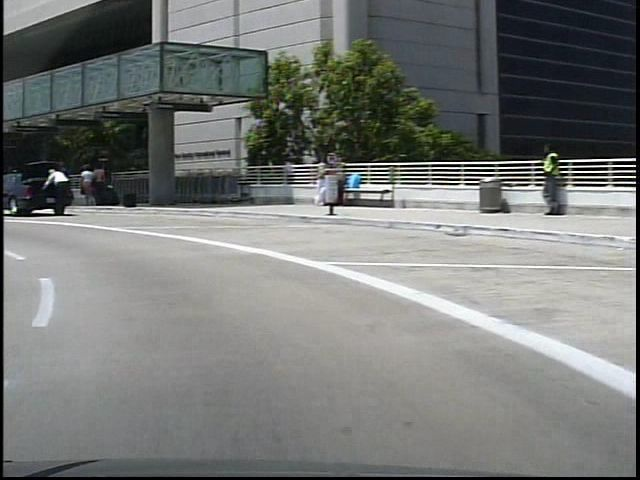person: (528, 141, 556, 220), (37, 166, 68, 219), (88, 161, 103, 209), (75, 165, 88, 206)
